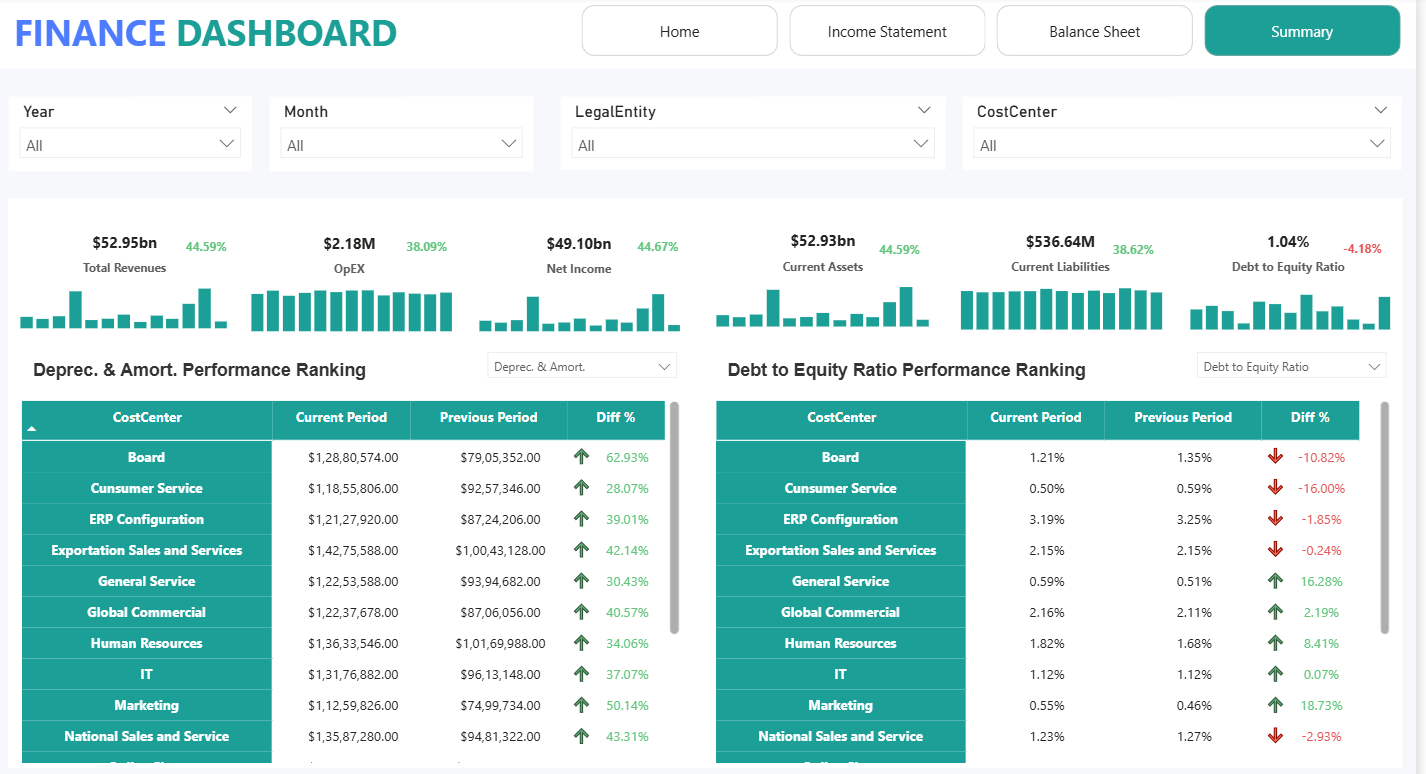

This screenshot's page, from the dashboard's own definition file:
{"tool":"powerbi","page":{"name":"Summary","canvas":[1280,720],"ordinal":3},"visuals":[{"type":"shape","box":[12,182,1256,513],"z":0},{"type":"card","fields":{"Values":["DAX Measures.Total Revenues"]},"box":[17.2,199,197.6,64.4],"z":1000},{"type":"lineClusteredColumnComboChart","fields":{"Category":["FactFinancial.Date"],"Y":["DAX Measures.Total Revenues"]},"box":[17.9,243.7,196.4,61.8],"z":2000},{"type":"slicer","fields":{"Values":["DimDate.Year"]},"box":[12,91,219,67],"z":3000},{"type":"slicer","fields":{"Values":["DimDate.MonthName"]},"box":[248,91,238,67],"z":4000},{"type":"slicer","fields":{"Values":["LegalEntity.LegalEntity"]},"box":[509,91,347,66],"z":5000},{"type":"slicer","fields":{"Values":["CostCenter.CostCenter"]},"box":[872,91,396,66],"z":6000},{"type":"card","fields":{"Values":["DAX Measures.Base Measure"]},"box":[164.7,214.8,50.1,27.2],"z":7000},{"type":"card","fields":{"Values":["DAX Measures.Base Measure"]},"box":[362.2,214.8,53,27.2],"z":8000},{"type":"card","fields":{"Values":["DAX Measures.OpEX"]},"box":[223.4,200.4,191.9,63],"z":9000},{"type":"lineClusteredColumnComboChart","fields":{"Category":["FactFinancial.Date"],"Y":["DAX Measures.OpEX"]},"box":[225.2,245.8,190.9,61.8],"z":10000},{"type":"card","fields":{"Values":["DAX Measures.Base Measure"]},"box":[568.4,214.8,55.8,27.2],"z":11000},{"type":"card","fields":{"Values":["DAX Measures.Net Income"]},"box":[429.5,200.4,191.9,63],"z":12000},{"type":"lineClusteredColumnComboChart","fields":{"Category":["FactFinancial.Date"],"Y":["DAX Measures.Net Income"]},"box":[430.8,245.9,190.9,61.8],"z":13000},{"type":"card","fields":{"Values":["DAX Measures.Current Assets"]},"box":[644.3,197.6,201.9,64.4],"z":14000},{"type":"lineClusteredColumnComboChart","fields":{"Category":["FactFinancial.Date"],"Y":["DAX Measures.Current Assets"]},"box":[644.3,242.3,201.9,61.6],"z":15000},{"type":"card","fields":{"Values":["DAX Measures.Base Measure"]},"box":[784.6,214.8,61.6,31.5],"z":16000},{"type":"card","fields":{"Values":["DAX Measures.Base Measure"]},"box":[997.9,216.2,55.8,25.8],"z":17000},{"type":"card","fields":{"Values":["DAX Measures.Current Liabilities"]},"box":[861.9,199,194.7,63],"z":18000},{"type":"lineClusteredColumnComboChart","fields":{"Category":["FactFinancial.Date"],"Y":["DAX Measures.Current Liabilities"]},"box":[864.8,244.8,191.9,61.6],"z":19000},{"type":"card","fields":{"Values":["DAX Measures.Base Measure"]},"box":[1199.8,216.2,63,27.2],"z":20000},{"type":"card","fields":{"Values":["DAX Measures.Debt to Equity Ratio"]},"box":[1071,199,189,63],"z":21000},{"type":"lineClusteredColumnComboChart","fields":{"Category":["FactFinancial.Date"],"Y":["DAX Measures.Debt to Equity Ratio"]},"box":[1072.4,244.8,190.4,61.6],"z":22000},{"type":"pivotTable","fields":{"Rows":["CostCenter.CostCenter"],"Columns":["TimeCal.Name"],"Values":["DAX Measures.Base Measure"]},"box":[644.3,359.4,617.1,336.5],"z":23000},{"type":"slicer","fields":{"Values":["Balance Sheet.Name"]},"box":[1072.6,310.4,190.9,42.6],"z":24000},{"type":"advanceCardE03760C5AB684758B56AA29F9E6C257B","fields":{"mainMeasure":["DAX Measures.Balance Sheet Table Title"]},"box":[644.3,316.4,423.8,41.5],"z":25000},{"type":"slicer","fields":{"Values":["Income Statement.Name"]},"box":[433.8,310.7,190.4,43],"z":26000},{"type":"pivotTable","fields":{"Rows":["CostCenter.CostCenter"],"Columns":["TimeCal.Name"],"Values":["DAX Measures.Base Measure"]},"box":[18.6,359.4,602.8,336.5],"z":27000},{"type":"advanceCardE03760C5AB684758B56AA29F9E6C257B","fields":{"mainMeasure":["DAX Measures.Income Statement Table Title"]},"box":[18.6,316.4,423.8,41.5],"z":28000},{"type":"actionButton","box":[598.2,21.5,109.9,38.2],"z":29000},{"type":"actionButton","box":[745.1,21.5,169.6,38.2],"z":30000},{"type":"actionButton","box":[934.9,21.5,157.6,38.2],"z":31000},{"type":"actionButton","box":[1109.3,21.5,140.9,38.2],"z":32000},{"type":"shape","box":[0,0,1280,65],"z":33000},{"type":"textbox","box":[12,5,368,55],"z":34000},{"type":"pageNavigator","box":[528,8,740,46],"z":35000}]}

Visuals, with their boxes on the page's 1280x720 design canvas (x1, y1, x2, y2). These are canvas units, not pixel positions in the 1426x774 screenshot, which may show the page scaled, cropped or inside an application window:
shape: box(12, 182, 1268, 695)
card - DAX Measures.Total Revenues: box(17, 199, 215, 263)
lineClusteredColumnComboChart - FactFinancial.Date x DAX Measures.Total Revenues: box(18, 244, 214, 306)
slicer - DimDate.Year: box(12, 91, 231, 158)
slicer - DimDate.MonthName: box(248, 91, 486, 158)
slicer - LegalEntity.LegalEntity: box(509, 91, 856, 157)
slicer - CostCenter.CostCenter: box(872, 91, 1268, 157)
card - DAX Measures.Base Measure: box(165, 215, 215, 242)
card - DAX Measures.Base Measure: box(362, 215, 415, 242)
card - DAX Measures.OpEX: box(223, 200, 415, 263)
lineClusteredColumnComboChart - FactFinancial.Date x DAX Measures.OpEX: box(225, 246, 416, 308)
card - DAX Measures.Base Measure: box(568, 215, 624, 242)
card - DAX Measures.Net Income: box(430, 200, 621, 263)
lineClusteredColumnComboChart - FactFinancial.Date x DAX Measures.Net Income: box(431, 246, 622, 308)
card - DAX Measures.Current Assets: box(644, 198, 846, 262)
lineClusteredColumnComboChart - FactFinancial.Date x DAX Measures.Current Assets: box(644, 242, 846, 304)
card - DAX Measures.Base Measure: box(785, 215, 846, 246)
card - DAX Measures.Base Measure: box(998, 216, 1054, 242)
card - DAX Measures.Current Liabilities: box(862, 199, 1057, 262)
lineClusteredColumnComboChart - FactFinancial.Date x DAX Measures.Current Liabilities: box(865, 245, 1057, 306)
card - DAX Measures.Base Measure: box(1200, 216, 1263, 243)
card - DAX Measures.Debt to Equity Ratio: box(1071, 199, 1260, 262)
lineClusteredColumnComboChart - FactFinancial.Date x DAX Measures.Debt to Equity Ratio: box(1072, 245, 1263, 306)
pivotTable - CostCenter.CostCenter x TimeCal.Name: box(644, 359, 1261, 696)
slicer - Balance Sheet.Name: box(1073, 310, 1264, 353)
advanceCardE03760C5AB684758B56AA29F9E6C257B - DAX Measures.Balance Sheet Table Title: box(644, 316, 1068, 358)
slicer - Income Statement.Name: box(434, 311, 624, 354)
pivotTable - CostCenter.CostCenter x TimeCal.Name: box(19, 359, 621, 696)
advanceCardE03760C5AB684758B56AA29F9E6C257B - DAX Measures.Income Statement Table Title: box(19, 316, 442, 358)
actionButton: box(598, 22, 708, 60)
actionButton: box(745, 22, 915, 60)
actionButton: box(935, 22, 1092, 60)
actionButton: box(1109, 22, 1250, 60)
shape: box(0, 0, 1280, 65)
textbox: box(12, 5, 380, 60)
pageNavigator: box(528, 8, 1268, 54)
